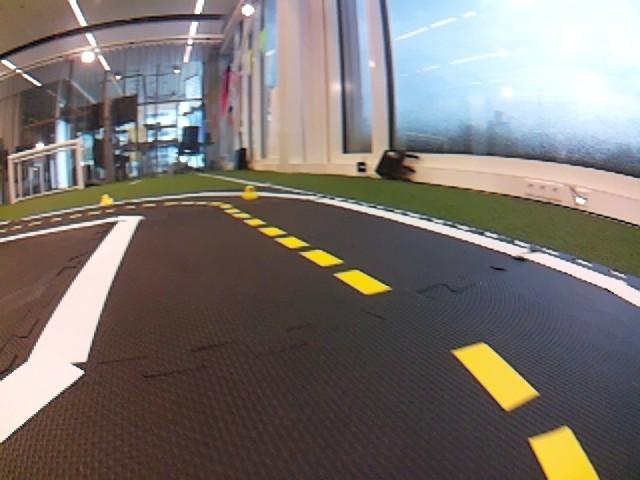Duckies: (239, 186, 258, 199), (100, 194, 115, 205)
